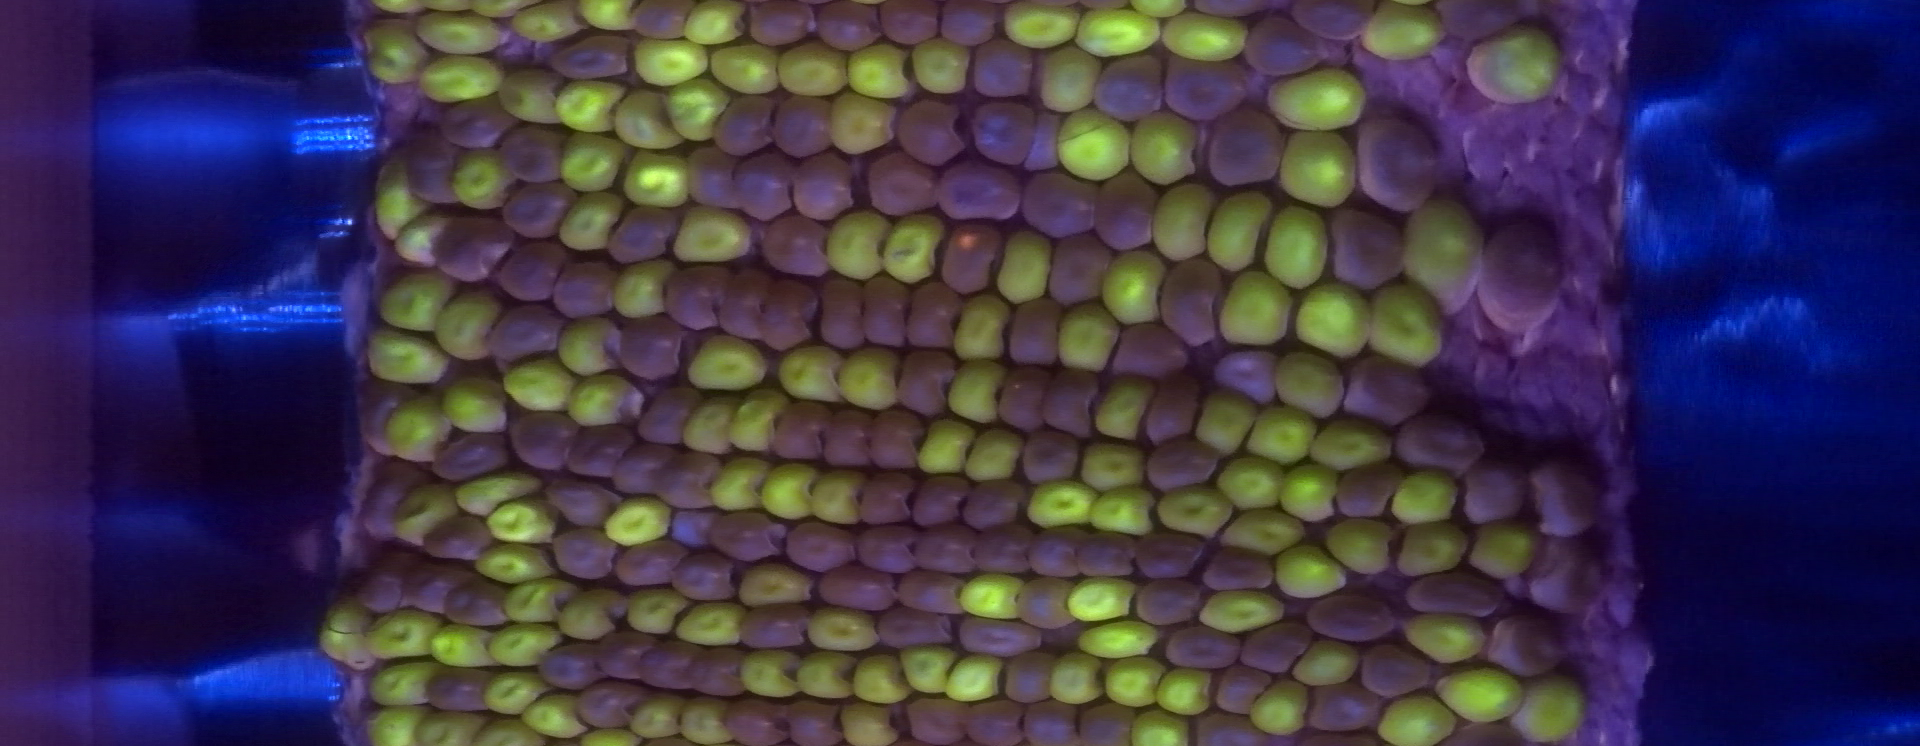fluorescent: (1395, 192, 1491, 318), (1357, 281, 1452, 376), (1464, 20, 1565, 107), (1262, 65, 1375, 137), (1270, 127, 1362, 211), (1293, 276, 1379, 363), (1216, 263, 1299, 352), (1269, 342, 1357, 424), (665, 197, 762, 271), (1260, 203, 1335, 296), (1123, 103, 1207, 185), (371, 147, 441, 244), (1147, 179, 1224, 265), (1199, 186, 1270, 279), (1056, 107, 1138, 185), (818, 206, 900, 284), (361, 320, 464, 382), (724, 385, 808, 461), (1093, 246, 1171, 327), (380, 392, 462, 468), (1509, 670, 1591, 746), (1431, 661, 1531, 724), (607, 82, 691, 156), (384, 477, 470, 548), (1356, 1, 1455, 62), (1395, 609, 1500, 666), (1156, 6, 1256, 66), (988, 225, 1060, 309), (605, 254, 691, 323), (553, 130, 640, 198), (556, 370, 655, 430), (373, 271, 460, 338), (833, 343, 912, 416), (1190, 381, 1264, 461), (447, 143, 527, 216), (1267, 539, 1359, 601), (822, 86, 898, 160), (432, 282, 507, 358), (684, 332, 775, 394), (358, 15, 438, 85), (770, 37, 860, 99), (1374, 688, 1471, 746), (1089, 371, 1160, 450), (1309, 413, 1403, 472), (1318, 513, 1400, 581), (617, 145, 700, 211), (659, 72, 733, 146), (1240, 401, 1318, 472), (1071, 4, 1164, 62), (480, 492, 571, 552), (1389, 519, 1479, 579), (1035, 44, 1107, 119), (1150, 481, 1243, 539), (1054, 299, 1127, 372), (840, 40, 923, 104), (774, 342, 852, 409), (1461, 521, 1547, 582), (498, 352, 579, 416), (626, 36, 722, 89), (550, 315, 633, 377), (440, 372, 518, 439), (1213, 503, 1311, 556), (1195, 586, 1300, 635), (1385, 465, 1467, 528), (1242, 675, 1318, 742), (553, 187, 631, 254), (416, 51, 513, 104), (705, 40, 790, 100), (942, 358, 1014, 428), (467, 539, 564, 590), (951, 289, 1018, 365), (1216, 452, 1296, 514), (1075, 435, 1160, 494), (598, 491, 683, 549), (993, 1, 1089, 53), (902, 36, 980, 99), (1276, 458, 1348, 526), (451, 468, 555, 514), (1081, 486, 1173, 539), (675, 394, 751, 458), (414, 9, 512, 58), (883, 209, 943, 289), (1018, 477, 1108, 529), (1060, 572, 1151, 625), (1042, 647, 1123, 706), (549, 76, 628, 135), (959, 423, 1033, 485), (484, 622, 580, 670), (313, 606, 384, 671), (735, 559, 824, 610), (392, 206, 465, 268), (911, 418, 988, 477), (361, 606, 443, 661), (429, 616, 508, 673), (495, 67, 569, 127), (756, 461, 827, 523), (841, 649, 920, 704), (1075, 619, 1176, 661), (502, 577, 588, 627), (808, 463, 871, 532), (476, 665, 560, 717), (958, 570, 1035, 624), (557, 586, 631, 642), (704, 453, 771, 514), (1103, 654, 1176, 710), (800, 601, 884, 649), (1293, 637, 1365, 692), (893, 639, 964, 695), (508, 1, 593, 47), (667, 699, 749, 746), (738, 643, 804, 701), (676, 1, 756, 49), (670, 600, 748, 648), (789, 647, 860, 699), (624, 587, 698, 637), (831, 697, 906, 746), (1155, 668, 1226, 718), (367, 661, 444, 706), (519, 692, 598, 734), (940, 649, 1008, 697), (626, 691, 693, 739), (409, 708, 490, 746), (1127, 706, 1201, 746), (355, 708, 427, 746), (573, 1, 643, 38), (465, 715, 539, 746)
nonfluorescent: (1485, 218, 1558, 331), (1358, 115, 1434, 207), (1326, 206, 1401, 285), (1529, 461, 1600, 543), (1213, 107, 1282, 184), (1019, 169, 1096, 236), (1048, 230, 1114, 303), (1160, 257, 1220, 337), (1167, 54, 1244, 115), (1395, 410, 1480, 465), (937, 162, 1014, 222), (1356, 354, 1419, 426), (1093, 53, 1161, 120), (1092, 171, 1156, 243), (1247, 17, 1326, 73), (940, 219, 1002, 292), (893, 100, 959, 167), (437, 220, 508, 281), (868, 149, 936, 212), (503, 180, 576, 236), (765, 213, 830, 276), (1531, 544, 1593, 609), (760, 277, 816, 350), (1406, 576, 1500, 619), (731, 153, 790, 220), (497, 241, 564, 300), (507, 412, 576, 469), (1113, 321, 1188, 374), (1488, 616, 1559, 671), (605, 206, 675, 261), (666, 269, 727, 332), (972, 102, 1032, 165), (1245, 616, 1310, 675), (1147, 371, 1200, 443), (1044, 365, 1101, 432), (713, 93, 770, 157), (405, 138, 460, 205), (707, 512, 782, 560), (1304, 598, 1396, 637), (1310, 684, 1384, 733), (502, 122, 564, 180), (1462, 462, 1524, 519), (486, 303, 556, 354), (1149, 439, 1215, 492), (972, 36, 1031, 96), (1359, 644, 1428, 696), (961, 614, 1041, 658), (1002, 364, 1053, 431), (1160, 626, 1240, 669), (550, 258, 612, 314), (787, 521, 852, 573), (1289, 1, 1376, 40), (907, 283, 959, 349), (773, 96, 831, 153), (551, 474, 618, 524), (814, 571, 898, 611), (433, 431, 509, 475), (721, 266, 767, 339), (636, 387, 698, 440), (564, 424, 628, 475), (770, 402, 825, 461), (795, 156, 849, 216), (1213, 345, 1275, 398), (553, 37, 628, 80), (901, 348, 951, 412), (898, 571, 966, 617), (577, 684, 645, 730), (1009, 298, 1056, 365), (858, 468, 912, 526), (660, 454, 719, 507), (612, 443, 672, 495), (861, 277, 906, 344), (741, 603, 804, 650), (1021, 428, 1076, 483), (1340, 463, 1393, 519), (616, 541, 684, 586), (443, 97, 513, 140), (1134, 537, 1204, 579), (624, 318, 680, 372), (910, 477, 965, 530), (364, 560, 416, 616), (819, 2, 879, 51), (553, 530, 613, 579), (1136, 579, 1202, 624), (856, 526, 918, 572), (446, 581, 508, 627), (684, 148, 736, 205), (746, 2, 813, 45), (670, 555, 733, 599), (430, 665, 489, 713), (820, 408, 869, 464), (918, 527, 976, 575), (1200, 550, 1272, 588), (820, 278, 861, 345), (639, 643, 694, 692), (782, 696, 840, 742), (1201, 707, 1273, 744), (1032, 528, 1087, 576), (1015, 579, 1071, 626), (411, 563, 468, 610), (540, 647, 602, 688), (980, 524, 1031, 575), (871, 413, 920, 465), (938, 4, 998, 47), (687, 646, 742, 692), (909, 697, 964, 744), (724, 701, 786, 741), (1080, 532, 1134, 578), (426, 521, 490, 560), (882, 1, 940, 42), (1218, 668, 1270, 713), (966, 481, 1020, 524), (880, 611, 949, 644), (1007, 650, 1048, 704), (601, 636, 649, 679), (1024, 708, 1080, 744), (966, 704, 1022, 739), (1082, 706, 1133, 744), (629, 1, 692, 31)
